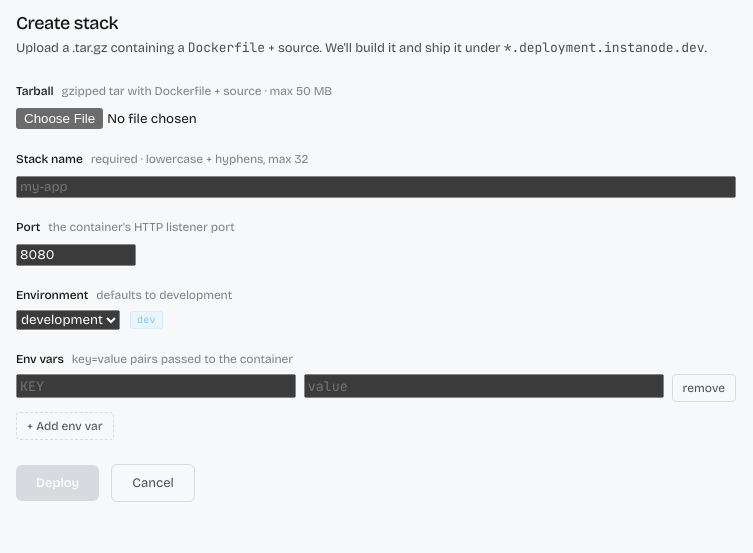
Scenario: StackCreatePage — env-var key validation › add button appends a row
Click the button with test id "stack-create-envvar-add": coordinates (65, 426) [16,412,114,440]
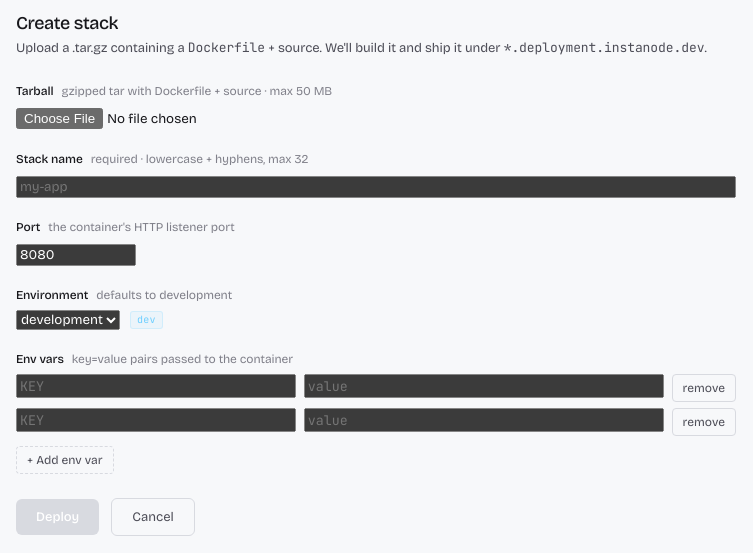
Expected: the element with test id "stack-create-envvar-row-1" is shown, [16,408,736,436]
